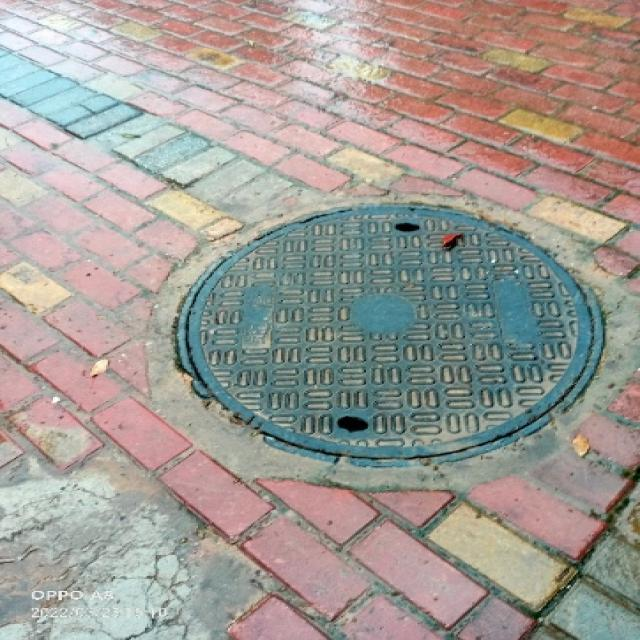Good: (152, 190, 617, 473)
